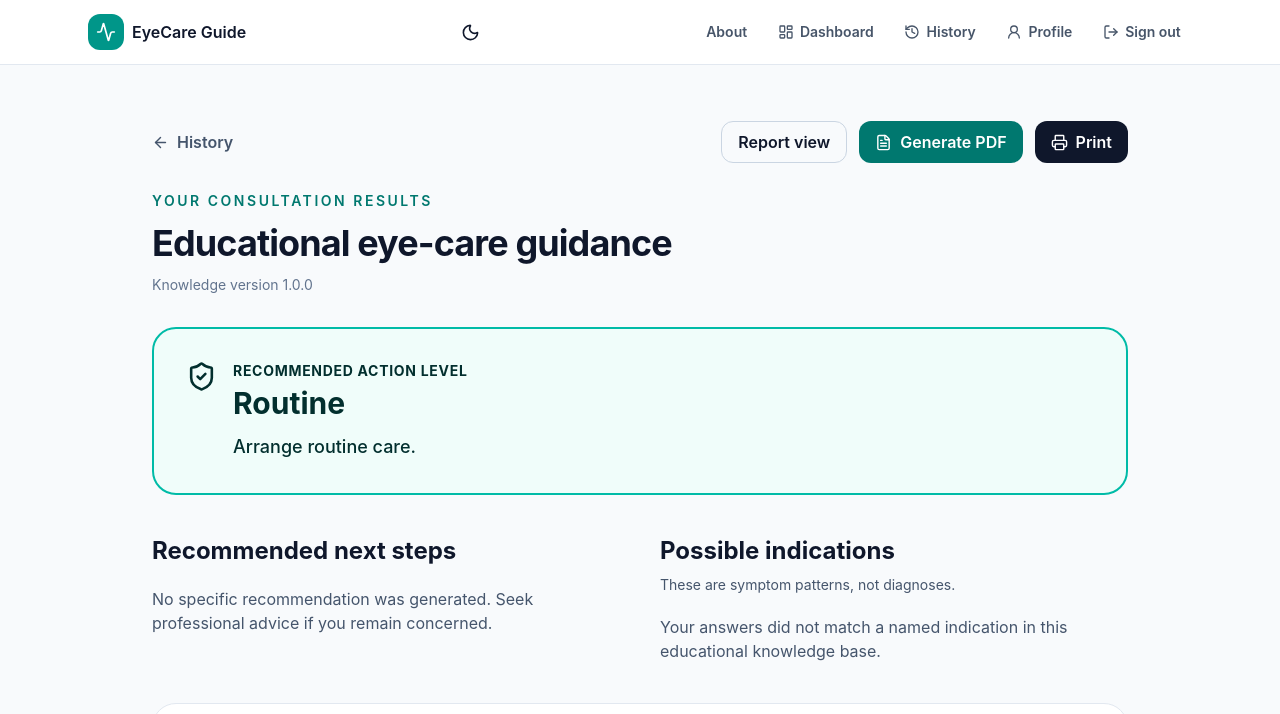
Test: App authentication experience › generates an immutable PDF report and exposes its secure download
The width and height of the screenshot is (1280, 714).
Click the button "Generate PDF": [941, 142] box [859,121,1023,163]
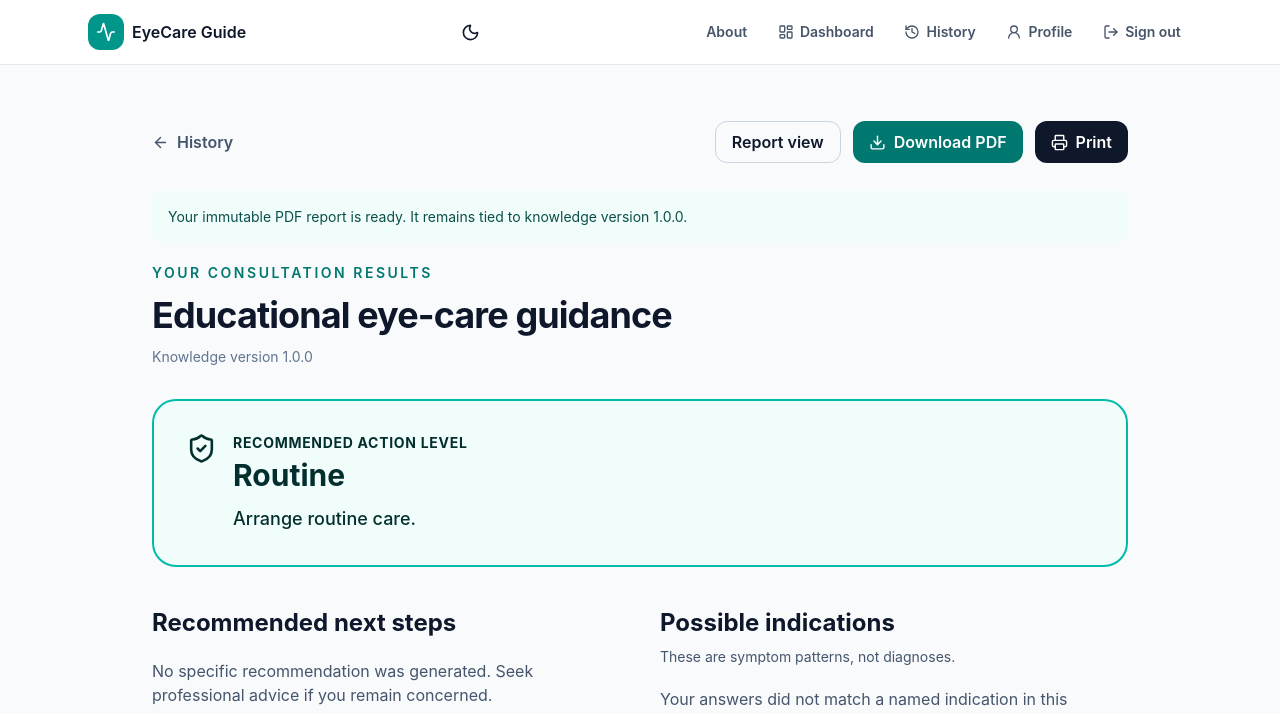
Now the message shows "immutable PDF report is ready", box [168,208,653,225]
